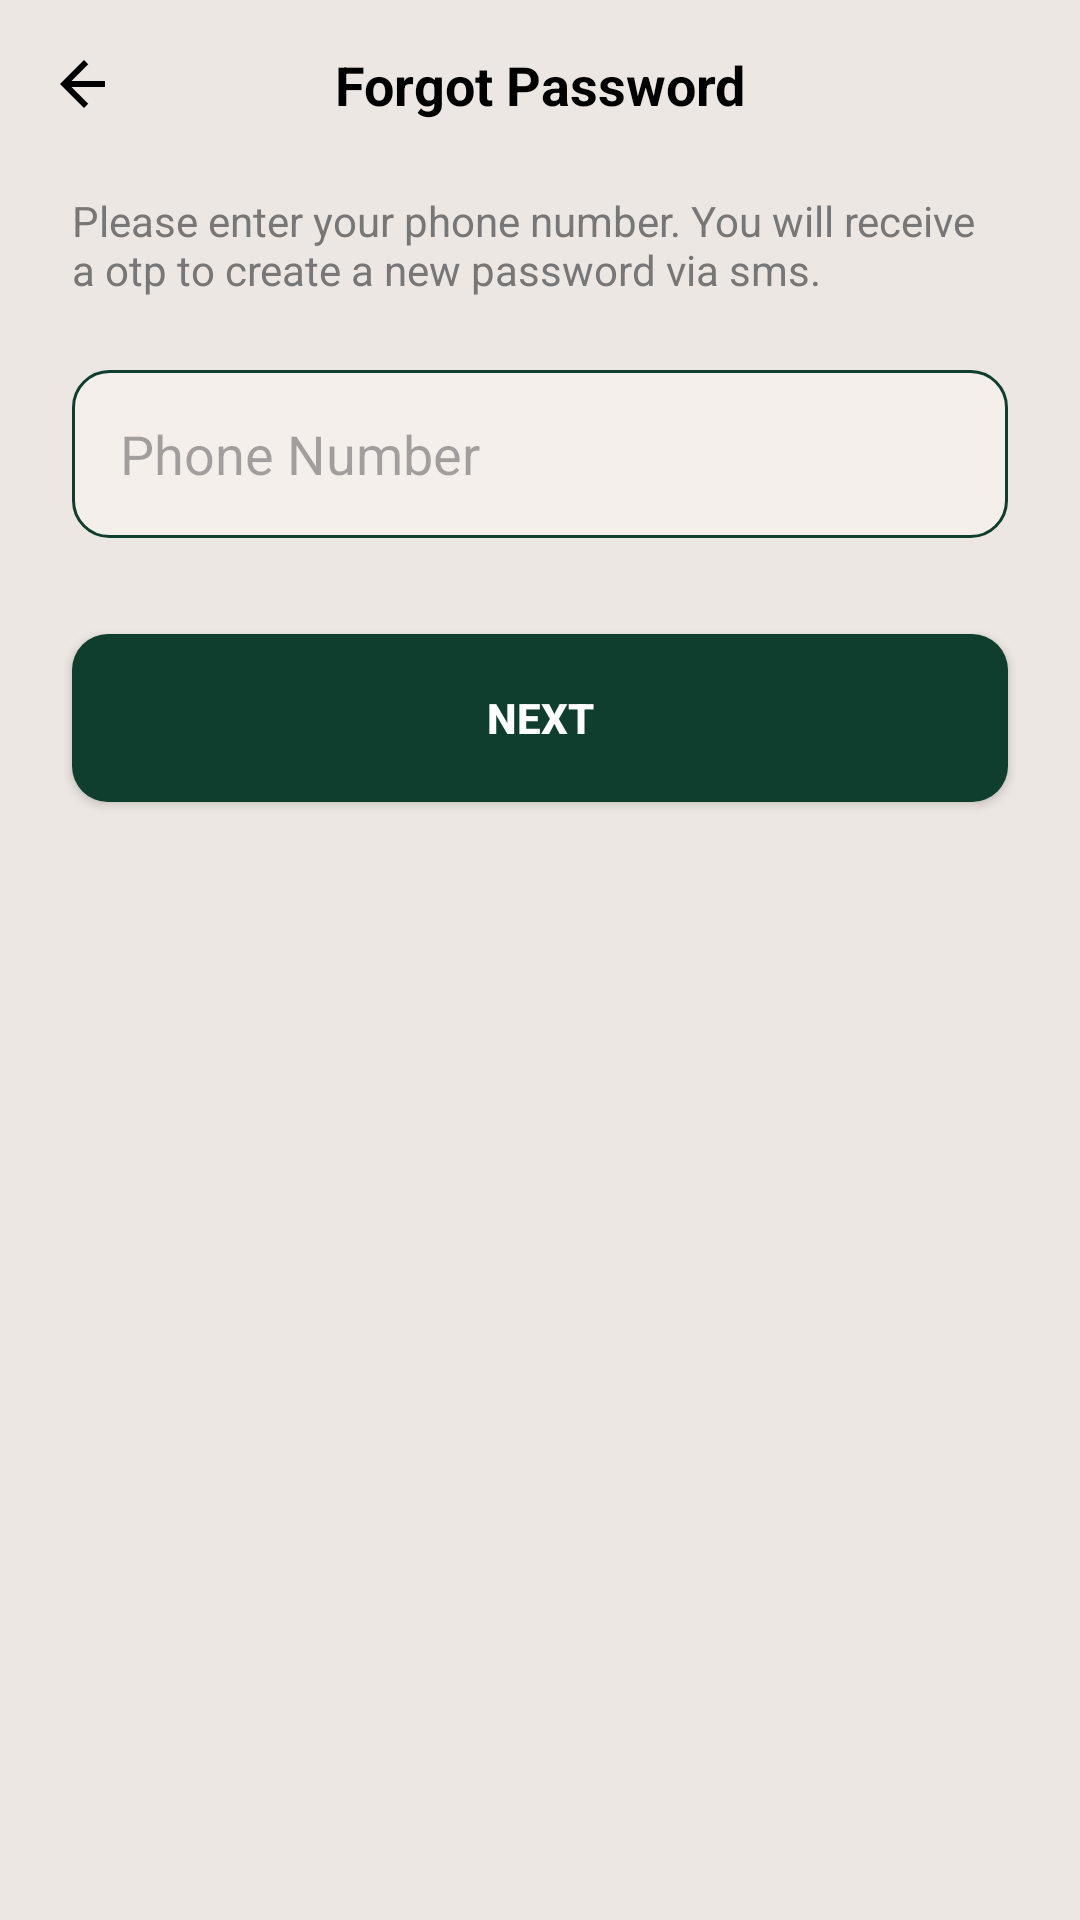

Named icons in this screenshot (1080w x 1920h) and their bounding boxes, (x1, y1, x2, y2):
back: (60, 60, 105, 108)
